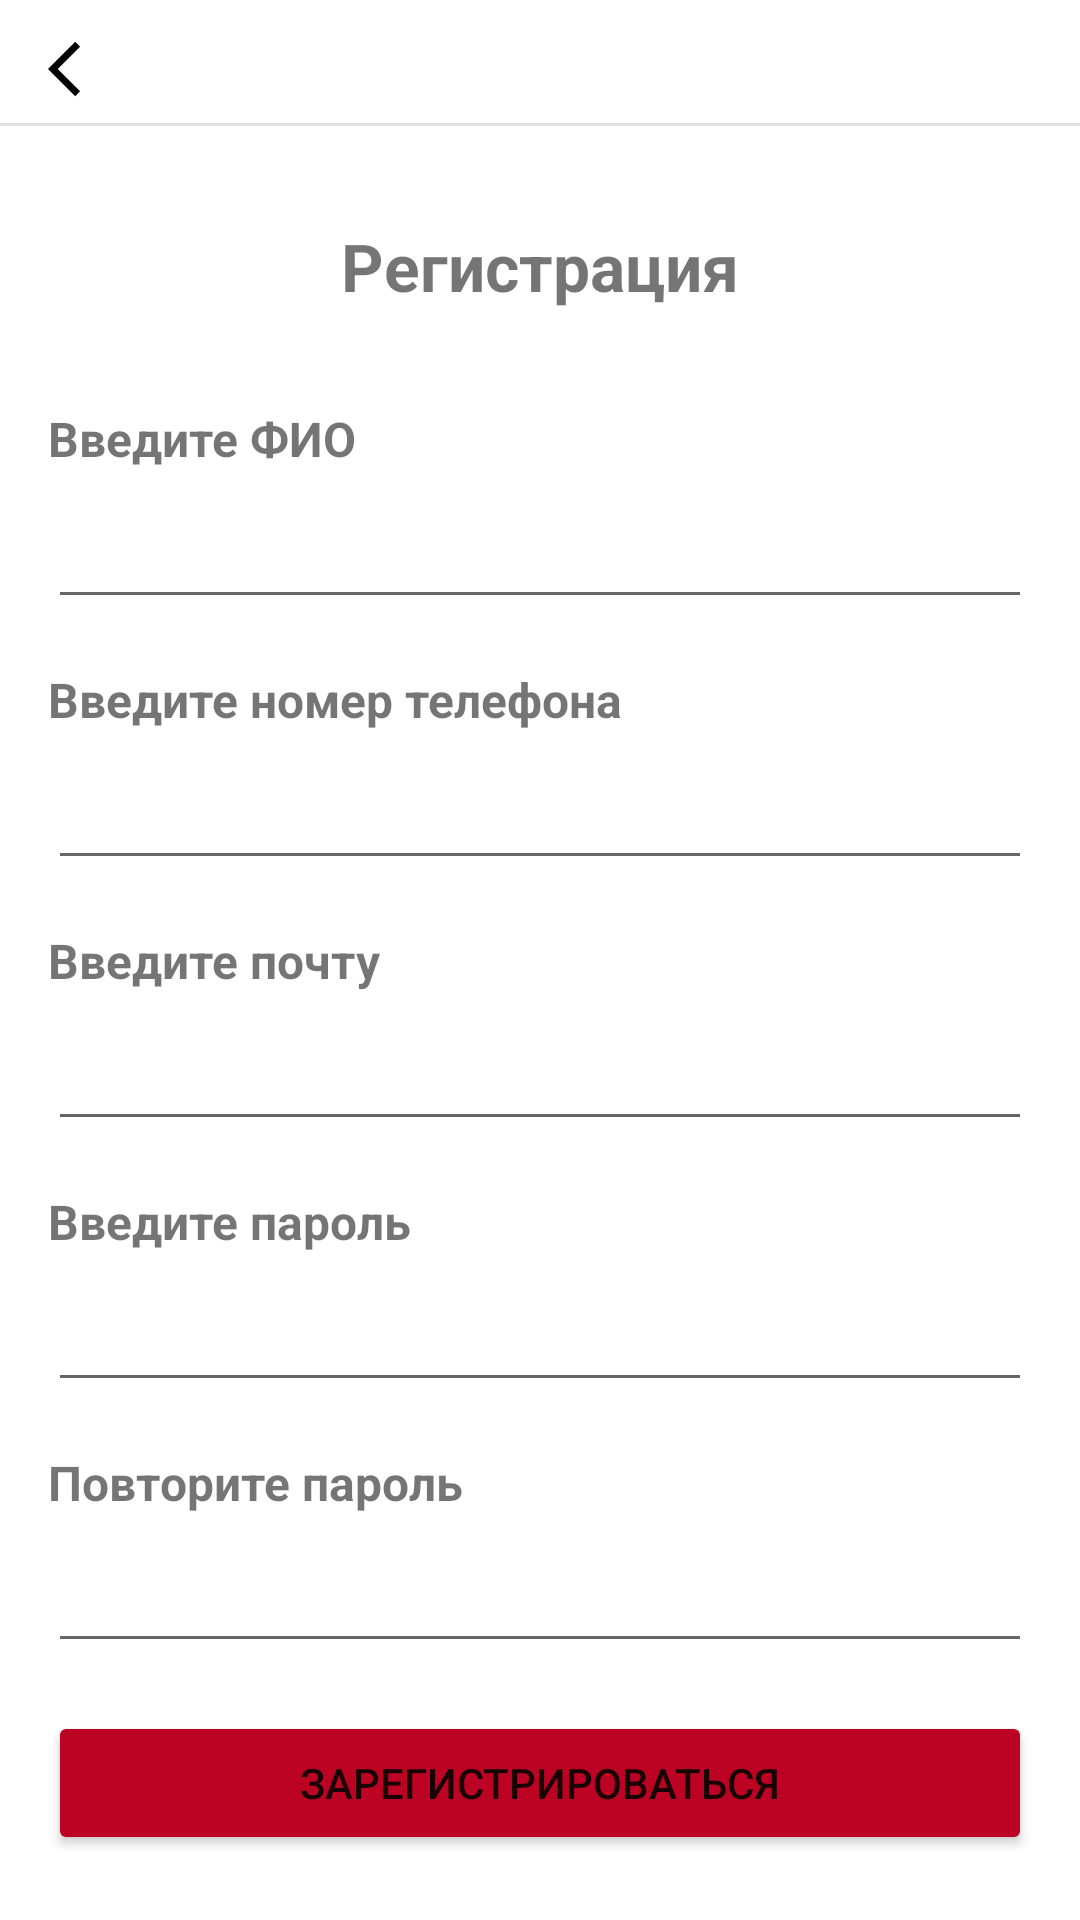

Where icons sit on this 1080x1920 app screen, as [x1,y1,x2,y2]:
back arrow: [48,42,80,96]
